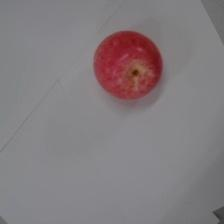red: (92, 28, 163, 102)
